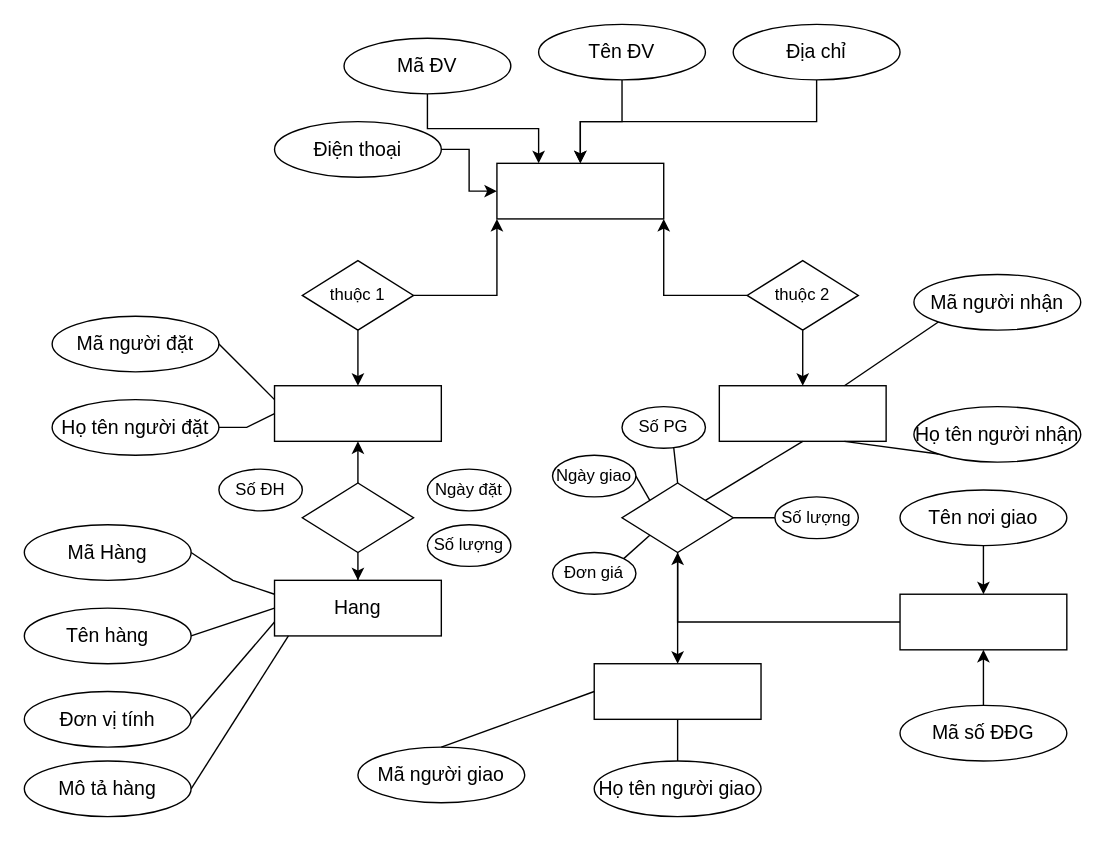
Some shapes in this 1105 by 841 pixel diagram are drawn without their labels. Here are the shapes that lost their labels. From the top down, the centre of each, then its label:
At (x=580, y=190): "ĐV KHACH".
At (x=357, y=412): "Người đặt".
At (x=802, y=412): "Người nhận".
At (x=357, y=517): "đặt".
At (x=677, y=517): "Giao".
At (x=983, y=621): "Nơi giao".
At (x=677, y=690): "Người giao".
